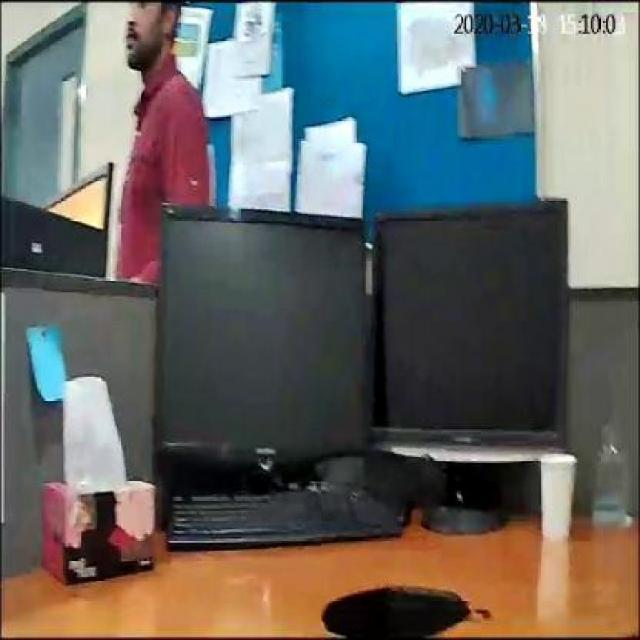spill: (324, 586, 474, 632)
